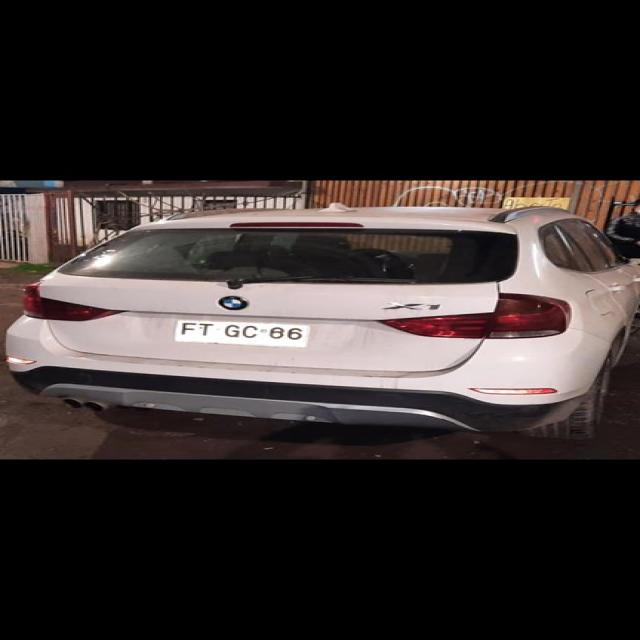patente: (172, 319, 311, 348)
